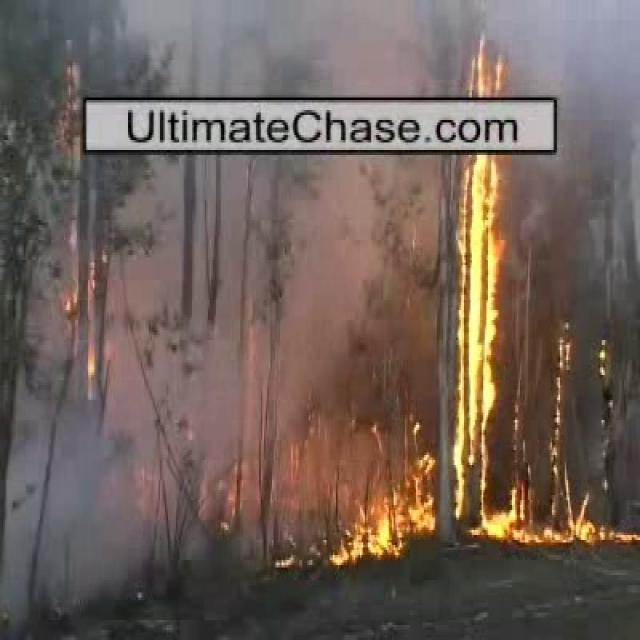Fire: (454, 155, 497, 504), (334, 454, 436, 560), (480, 506, 640, 544)
Smoke: (24, 402, 236, 570), (560, 5, 640, 314), (176, 4, 458, 86)
